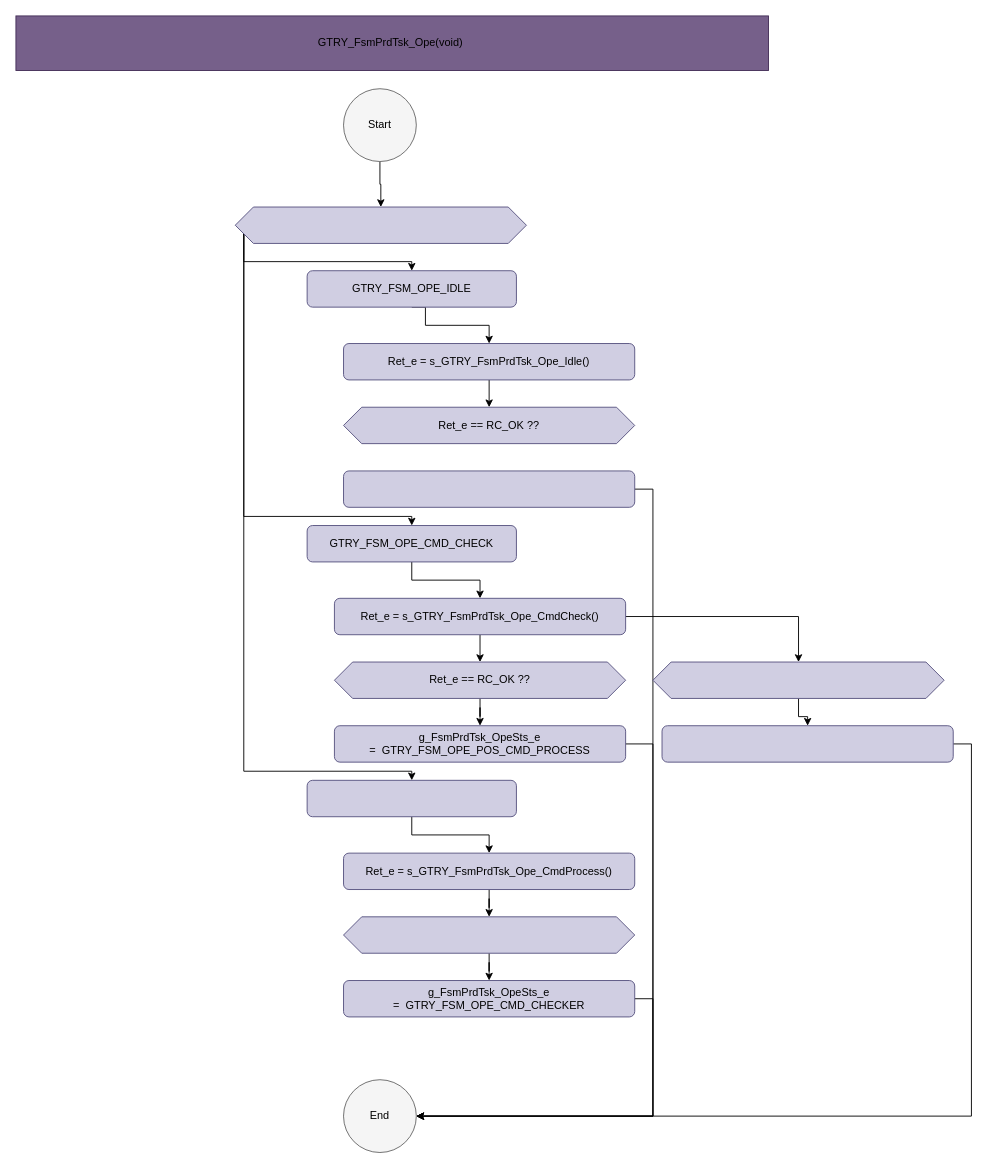
This 995x1168 diagram has some shape labels left out. The shapes that lost their labels are listed below. From the top down, each one's centre as x and y in pixels, then its label:
the point at 380,224: g_FsmPrdTsk_OpeSts_e
the point at 489,488: g_FsmPrdTsk_OpeSts_e = GTRY_FSM_OPE_POS_CMD_CHECK
the point at 798,679: Ret_e == RC_NO_OPE ??
the point at 807,743: g_FsmPrdTsk_OpeSts_e = GTRY_FSM_OPE_IDLE
the point at 411,798: GTRY_FSM_OPE_POS_CMD_PROCESS
the point at 489,934: Ret_e == RC_NO_OPERATION ??
